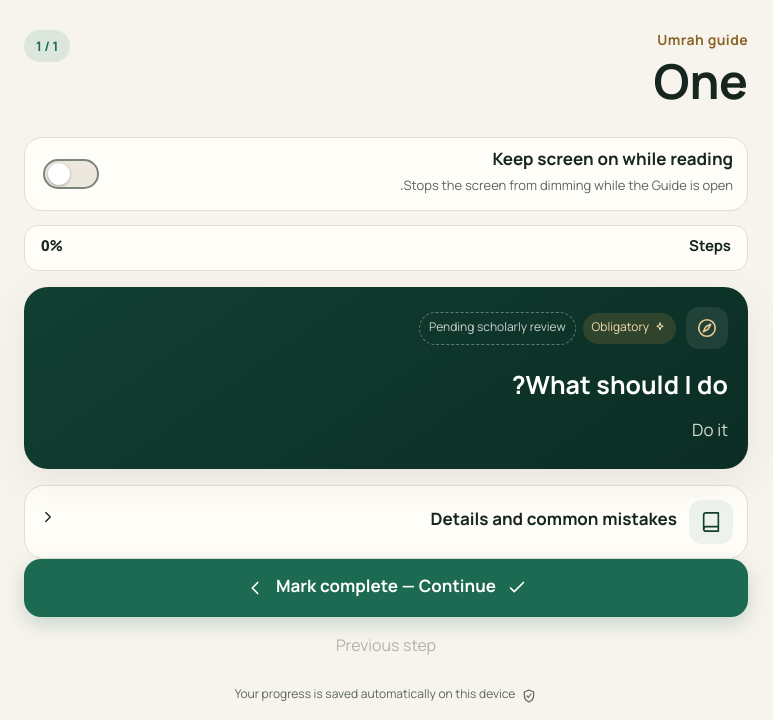
it: Ruling notes (T033) › shows other schools' positions in the details, after the step's own ruling
This screenshot has width=773, height=720.
Expected: the text "The Hanafi school holds otherwise." is not shown
Click the button "Details and common mistakes". click: click(711, 522)
box: [25,486,747,558]
(page scrolled)
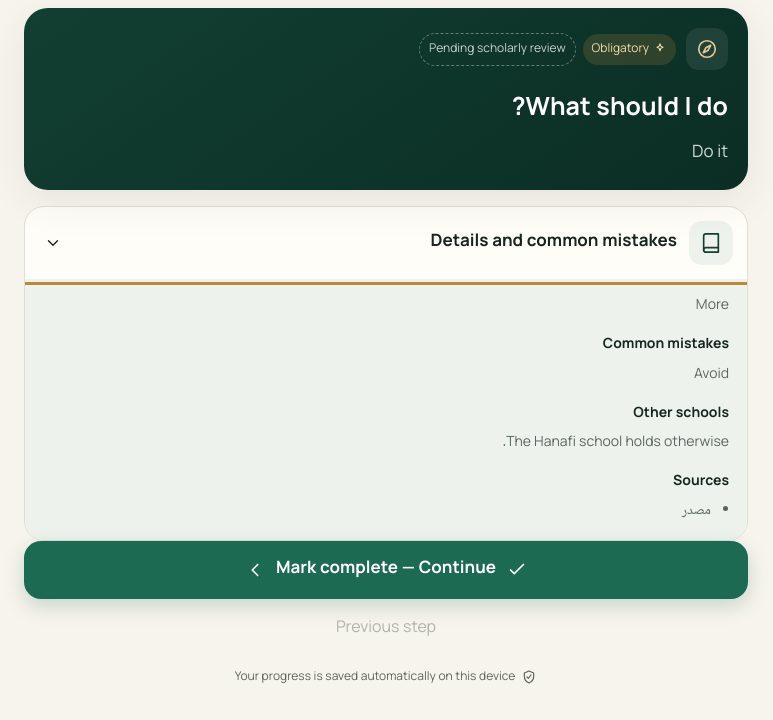
Result: the heading "Other schools" is shown at [633,402,729,426]
Result: the text "The Hanafi school holds otherwise." is shown at [502,431,729,455]
